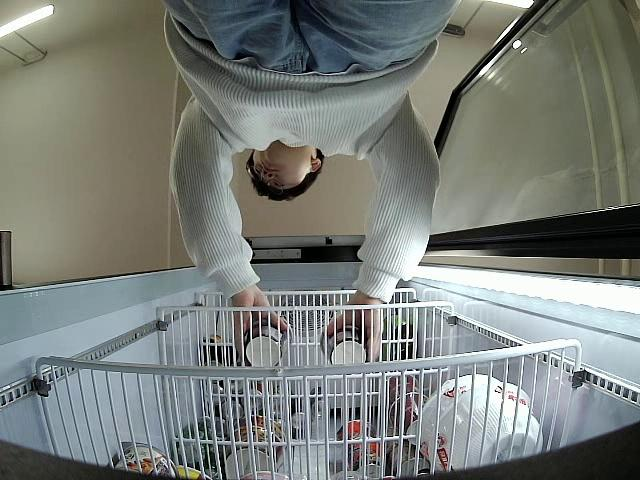00_hand: (324, 290, 383, 366), (229, 291, 286, 363)
08_buldak_S: (246, 321, 296, 370), (321, 328, 367, 364)
